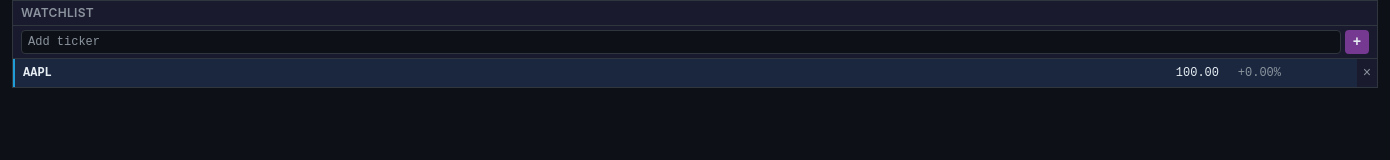
Scenario: remove button › leaves nothing selected when the last ticker is removed
The width and height of the screenshot is (1390, 160).
Click the button "×".
click(1367, 73)  # box [1357, 59, 1377, 87]
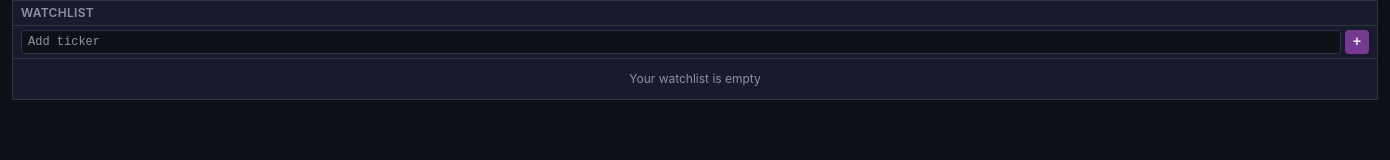
Expected: no list items are shown
